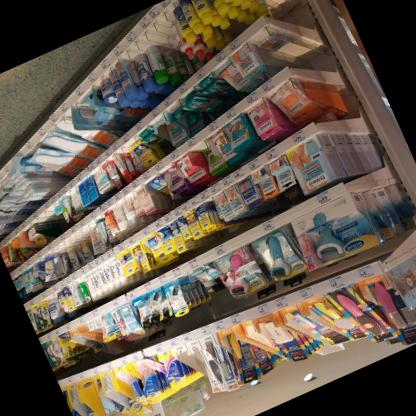empty_space: (133, 31, 178, 50)
